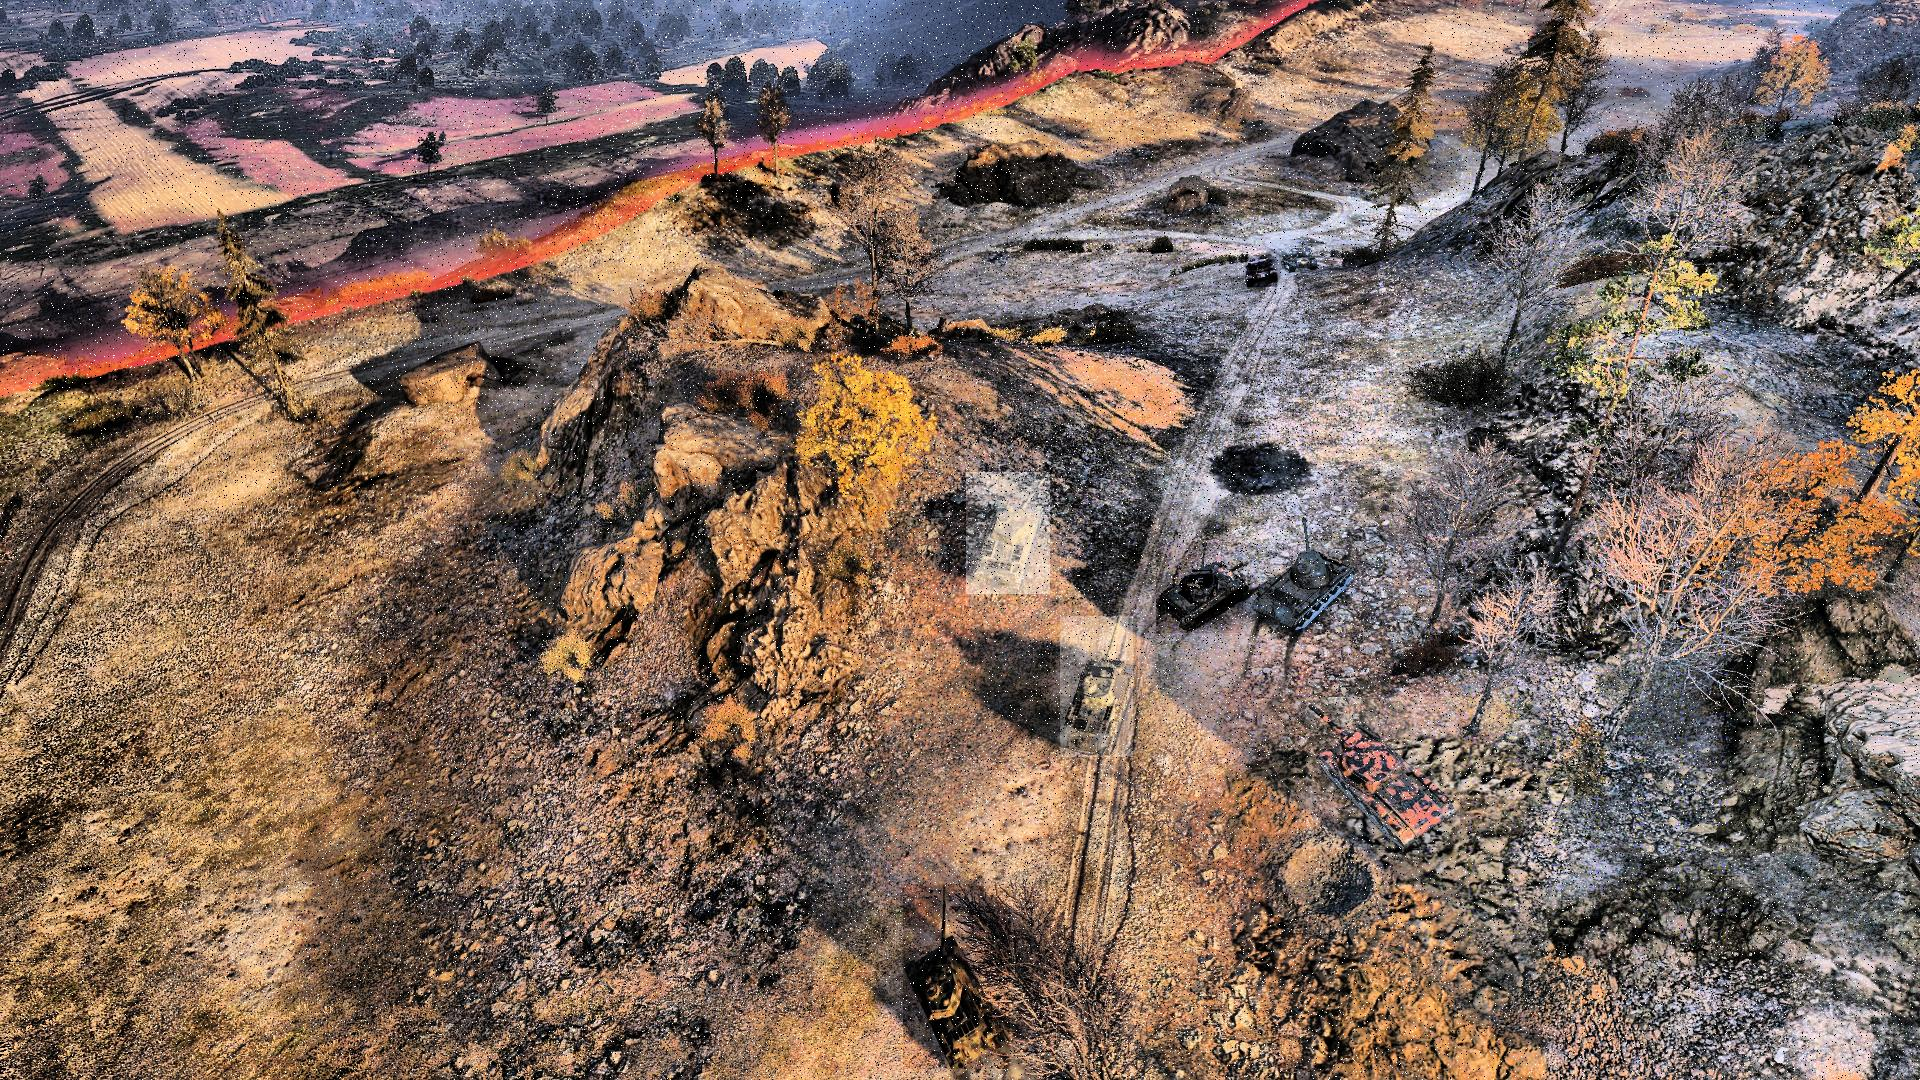military-vehicle: (1305, 698, 1460, 849), (903, 884, 1010, 1069), (1250, 516, 1354, 632), (1060, 616, 1134, 757), (967, 473, 1050, 595), (1156, 543, 1244, 634), (1245, 255, 1276, 287), (1280, 247, 1317, 270)
